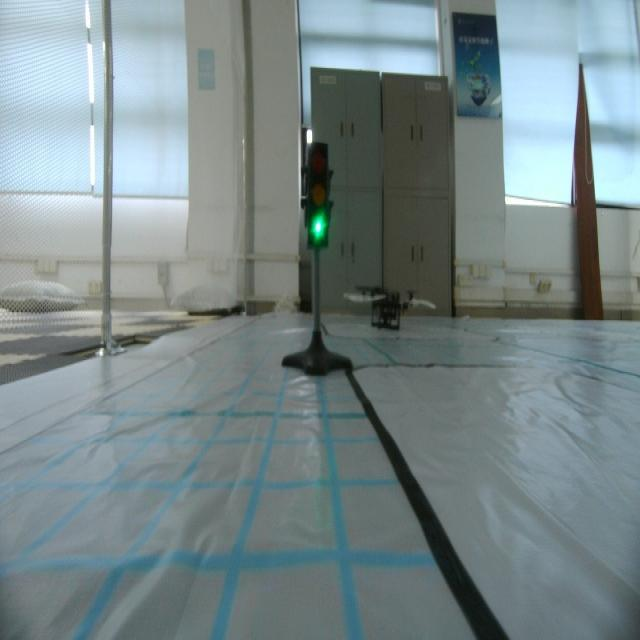green: (303, 144, 335, 249)
